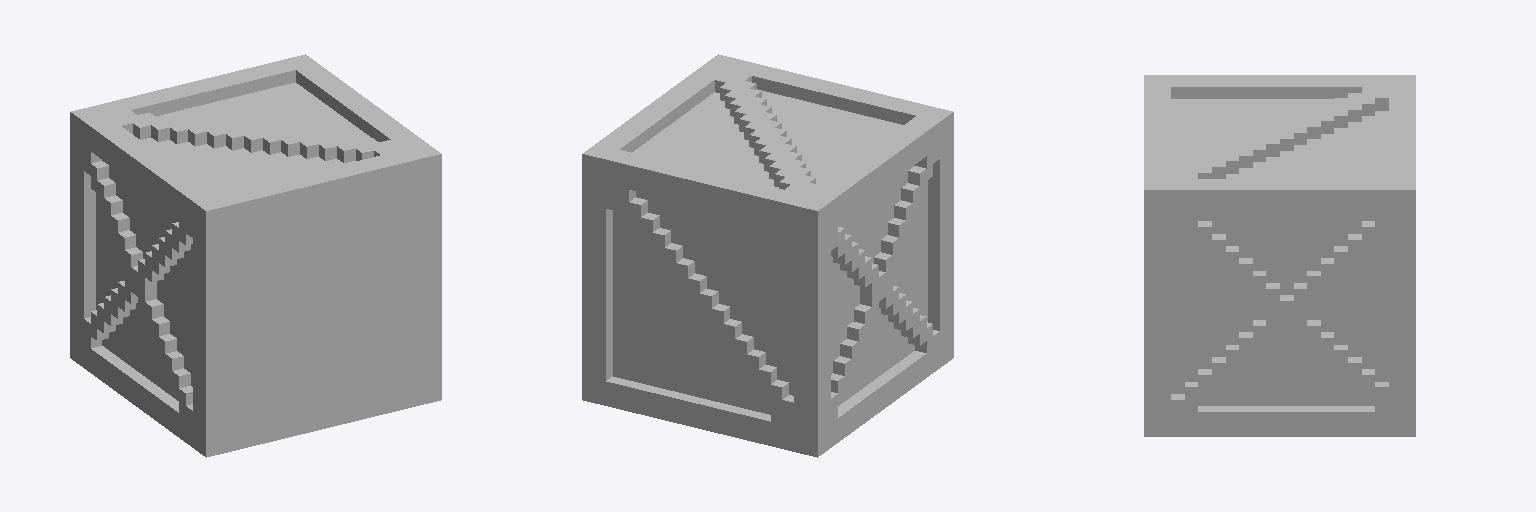
File: Crate-2.obj
The picture shows the model from 3 angles: view 1: azimuth 30°, elevation 25°; view 2: azimuth 150°, elevation 25°; view 3: azimuth 270°, elevation 25°; orthographic projection.
Parts seen in each view (by area): view 1: Crate-2; view 2: Crate-2; view 3: Crate-2.
Boxes of the visible parts, <box> form: Crate-2: <box>70,54,441,457</box>; Crate-2: <box>582,54,953,457</box>; Crate-2: <box>1144,75,1415,436</box>.
Bounding box in the file's own units: 0.4 × 0.4 × 0.4.